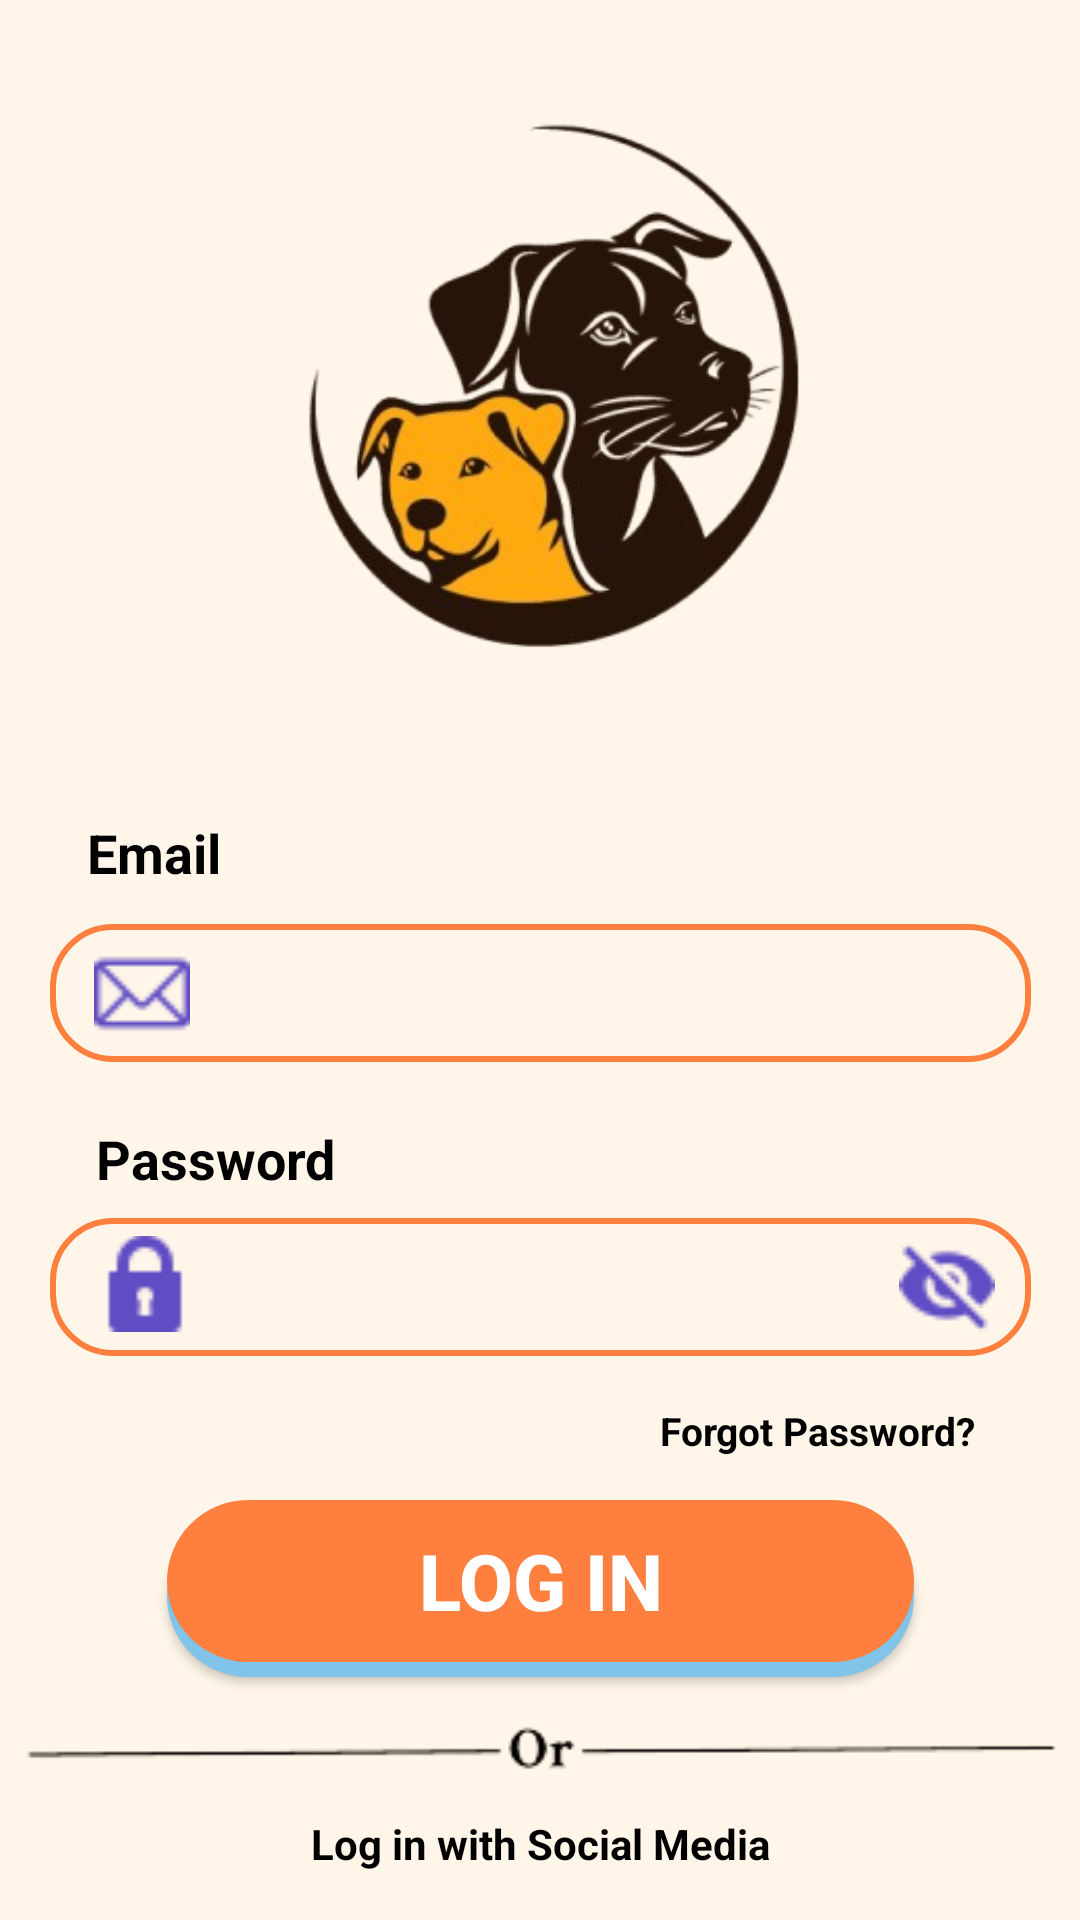

Named icons in this screenshot (1080px x 1920px) and their centers, [x,y]:
hidepass: [947,1287]
lock: [145,1284]
